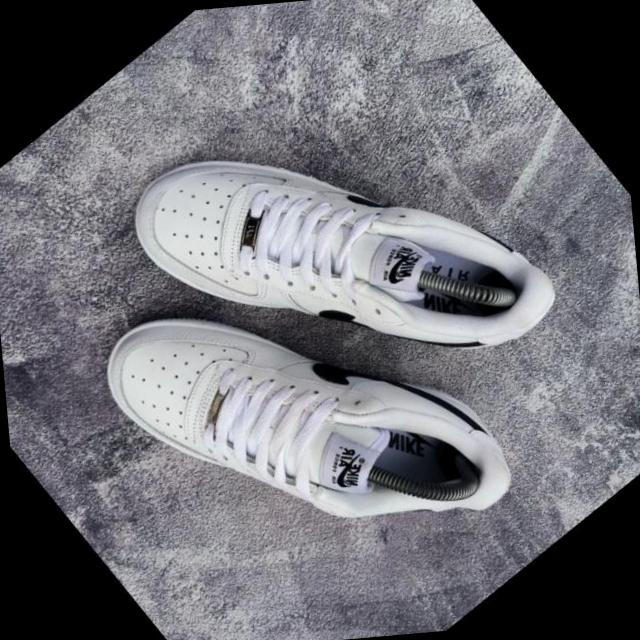nike_fake_airforce: (92, 0, 583, 502), (70, 168, 542, 640)
